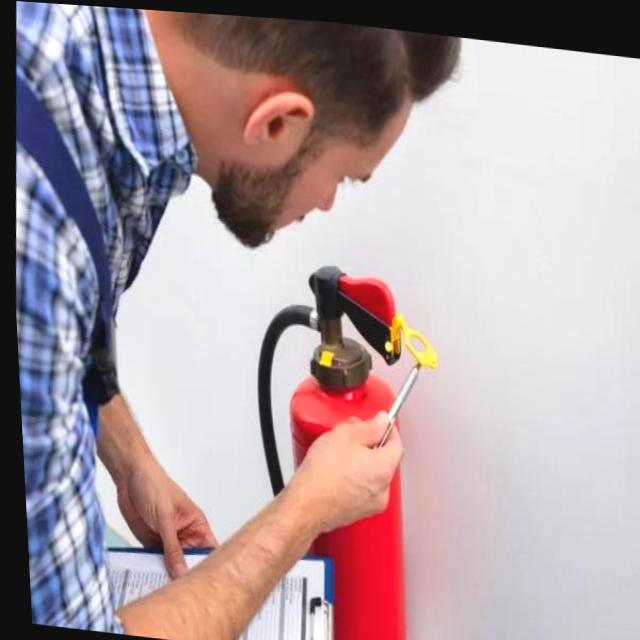FireExtinguisher: (229, 241, 451, 640)
